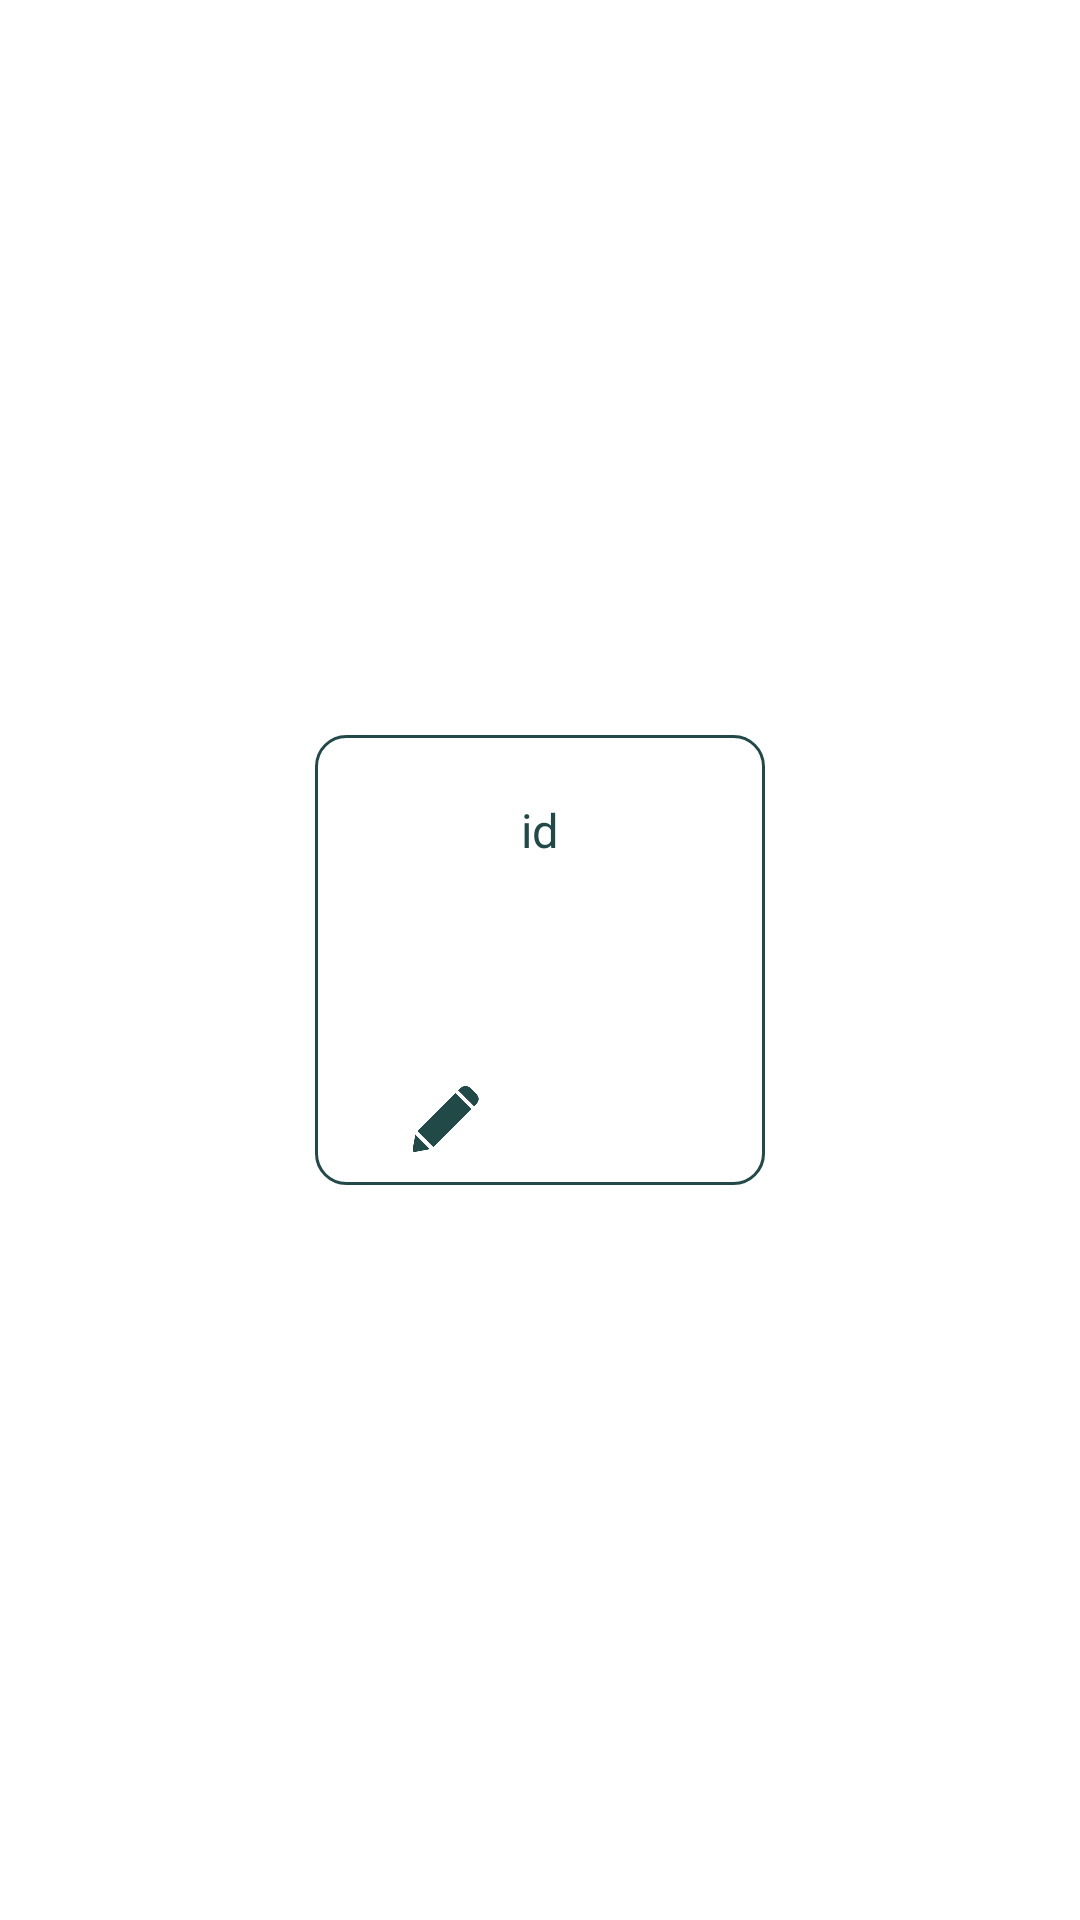

Where to tap for icons on this 1080px x 1920px app screen, as (x,y):
update: (446,1119)
